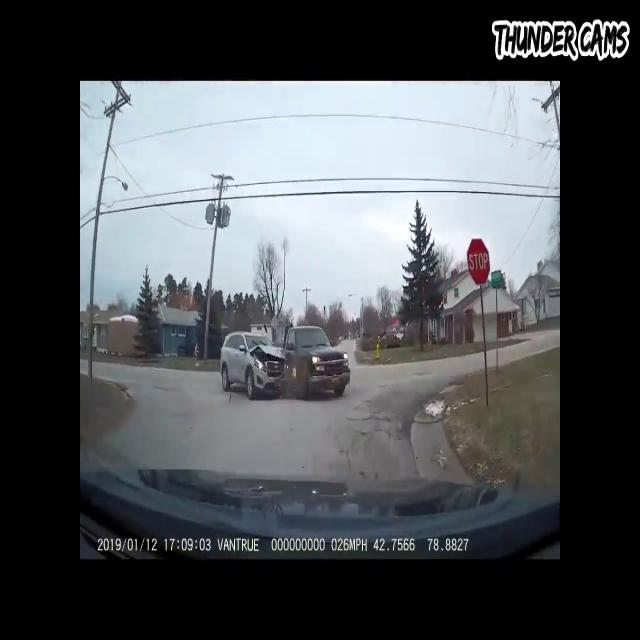accident: (207, 324, 357, 403)
